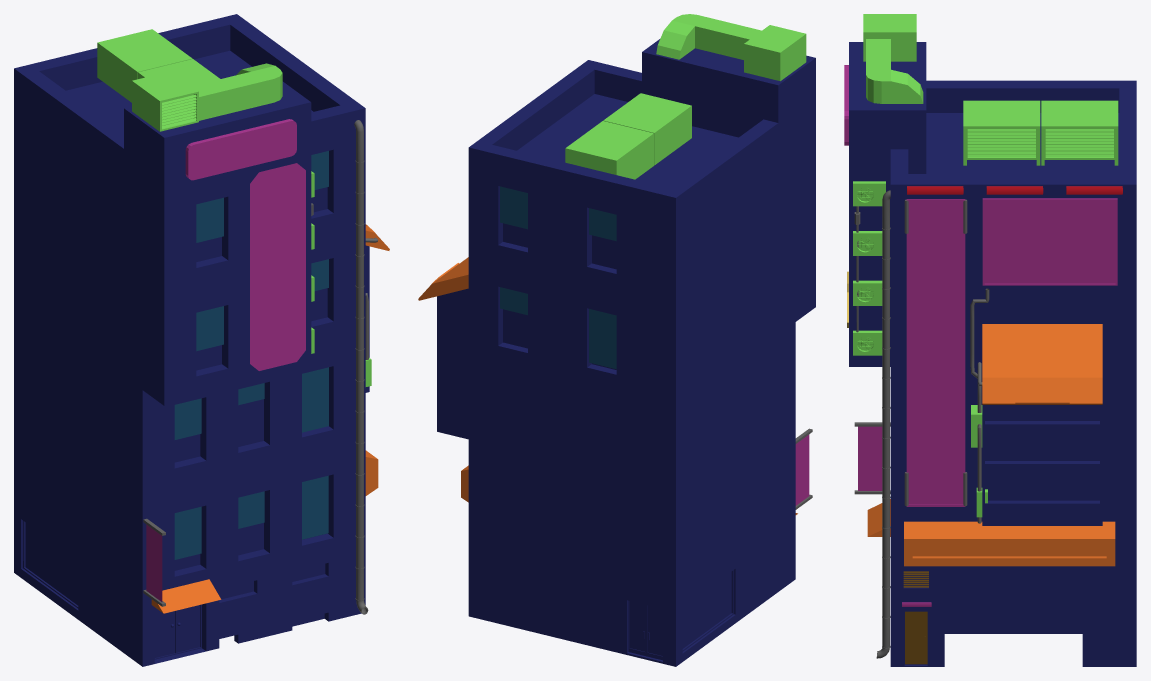
The model's file is building4.fbx.
3 renders of one model, left to right at view 1: azimuth 30°, elevation 25°; view 2: azimuth 150°, elevation 25°; view 3: azimuth 270°, elevation 25°, orthographic. The views are drawn at different scales.
Visible parts, largest first — view 1: buildıng, light.003, clımate, CURTAINS.002, cables.002, roof.002; view 2: buildıng, clımate, CURTAINS.002, roof.002, light.003; view 3: buildıng, light.003, roof.002, clımate, cables.002, door.
Boxes of the visible parts, x1,y1,x2,y2 form: buildıng: (14,14,369,666); light.003: (146,119,305,601); clımate: (97,29,371,386); CURTAINS.002: (174,151,328,559); cables.002: (143,120,377,614); roof.002: (151,224,389,613); buildıng: (437,39,815,666); clımate: (565,14,806,179); CURTAINS.002: (500,186,616,369); roof.002: (418,257,797,514); light.003: (795,434,809,505); buildıng: (849,42,1136,666); light.003: (844,65,1122,606); roof.002: (867,324,1115,566); clımate: (853,14,1118,517); cables.002: (854,190,989,658); door: (903,571,928,664).
Bounding box in the file's own units: 247 × 456 × 220.
